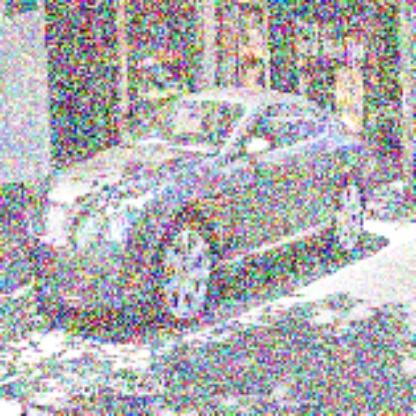Vehicle: (28, 97, 374, 328)
